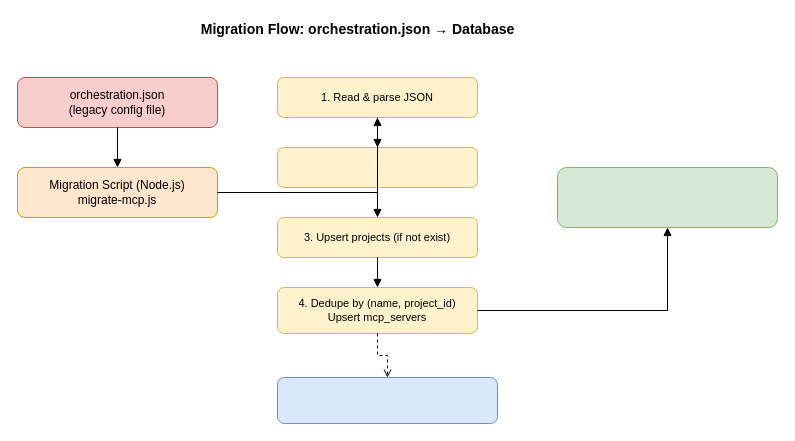
Image size: 795x441. Some labels were removed from this diagram. Here are the shapes that lost their labels. From the top down, the box of each, then its label:
(276, 146, 478, 188): 2. Assign default project_id
(556, 166, 778, 228): Database SQLite / PostgreSQL (via DatabaseAdapter)
(276, 376, 498, 424): 5. Verification: count rows, validate uniqueness, dry-run log
